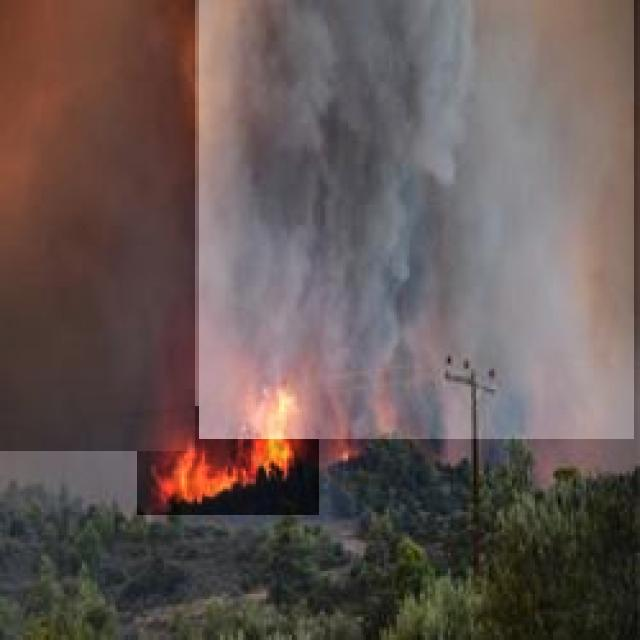Fire: (137, 406, 319, 515)
Smoke: (199, 0, 634, 439), (0, 0, 195, 451)
